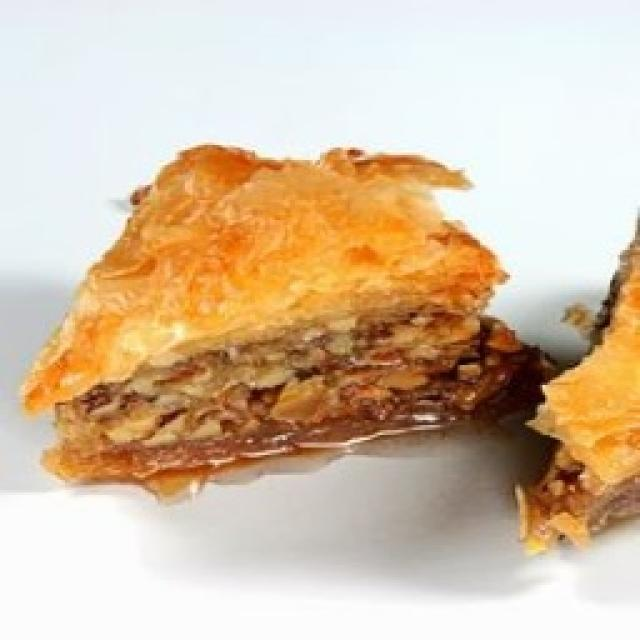Baklawa: (20, 145, 640, 558)
